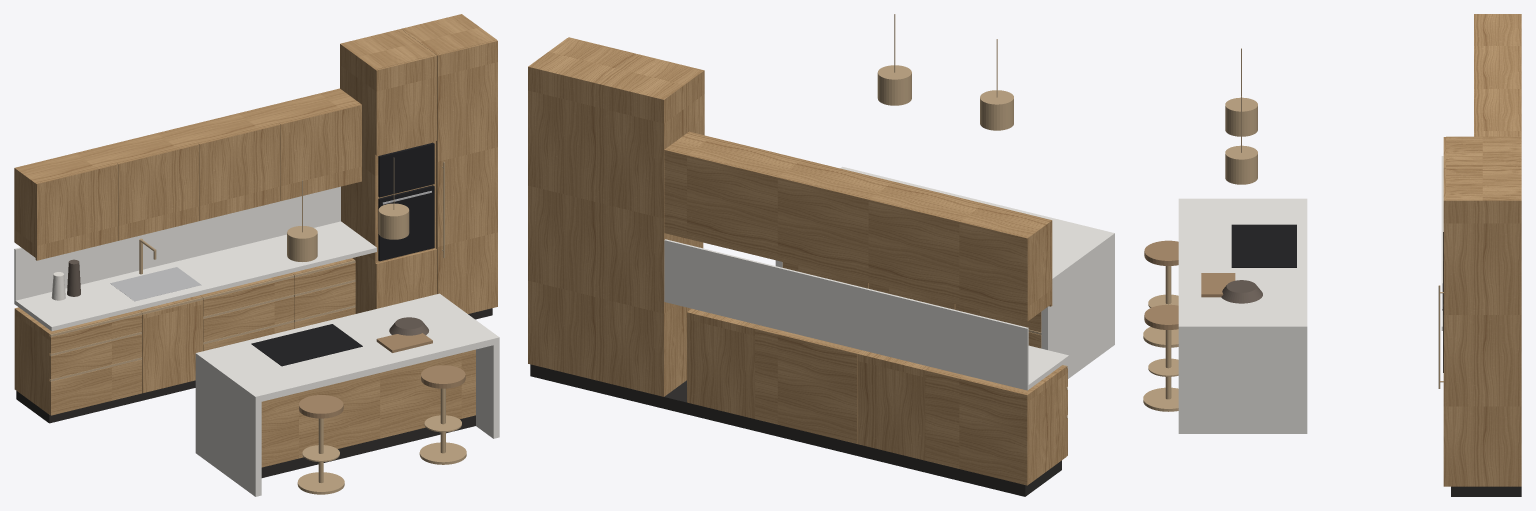
The model's file is cucina.glb.
3 renders of one model, left to right at view 1: azimuth 30°, elevation 25°; view 2: azimuth 150°, elevation 25°; view 3: azimuth 270°, elevation 25°, orthographic. The views are drawn at different scales.
Parts seen in each view (by area): view 1: finitura, pietra, schienale, bronzo, vetro_nero, zoccolo, seduta, acciaio, ceramica_scura; view 2: schienale, pietra, zoccolo, finitura, bronzo; view 3: schienale, pietra, bronzo, vetro_nero, seduta, finitura, ceramica_scura, zoccolo.
Part boxes in pixels (x1,y1,x2,y2): finitura: [35, 40, 497, 415]; pietra: [14, 186, 499, 496]; schienale: [14, 14, 496, 467]; bronzo: [50, 158, 466, 494]; vetro_nero: [251, 142, 434, 366]; zoccolo: [16, 308, 492, 477]; seduta: [299, 333, 465, 418]; acciaio: [110, 191, 431, 301]; ceramica_scura: [67, 259, 428, 335]; schienale: [528, 38, 1066, 485]; pietra: [664, 166, 1114, 390]; zoccolo: [530, 364, 1061, 496]; finitura: [568, 37, 1067, 455]; bronzo: [877, 14, 1067, 418]; schienale: [1446, 14, 1521, 486]; pietra: [1178, 156, 1443, 433]; bronzo: [1143, 48, 1443, 411]; vetro_nero: [1231, 224, 1443, 372]; seduta: [1144, 240, 1235, 329]; finitura: [1443, 14, 1476, 486]; ceramica_scura: [1221, 280, 1262, 303]; zoccolo: [1451, 486, 1521, 496].
Bounding box in the file's own units: 4.4 × 2.6 × 3.
11 materials, 2 textured.
